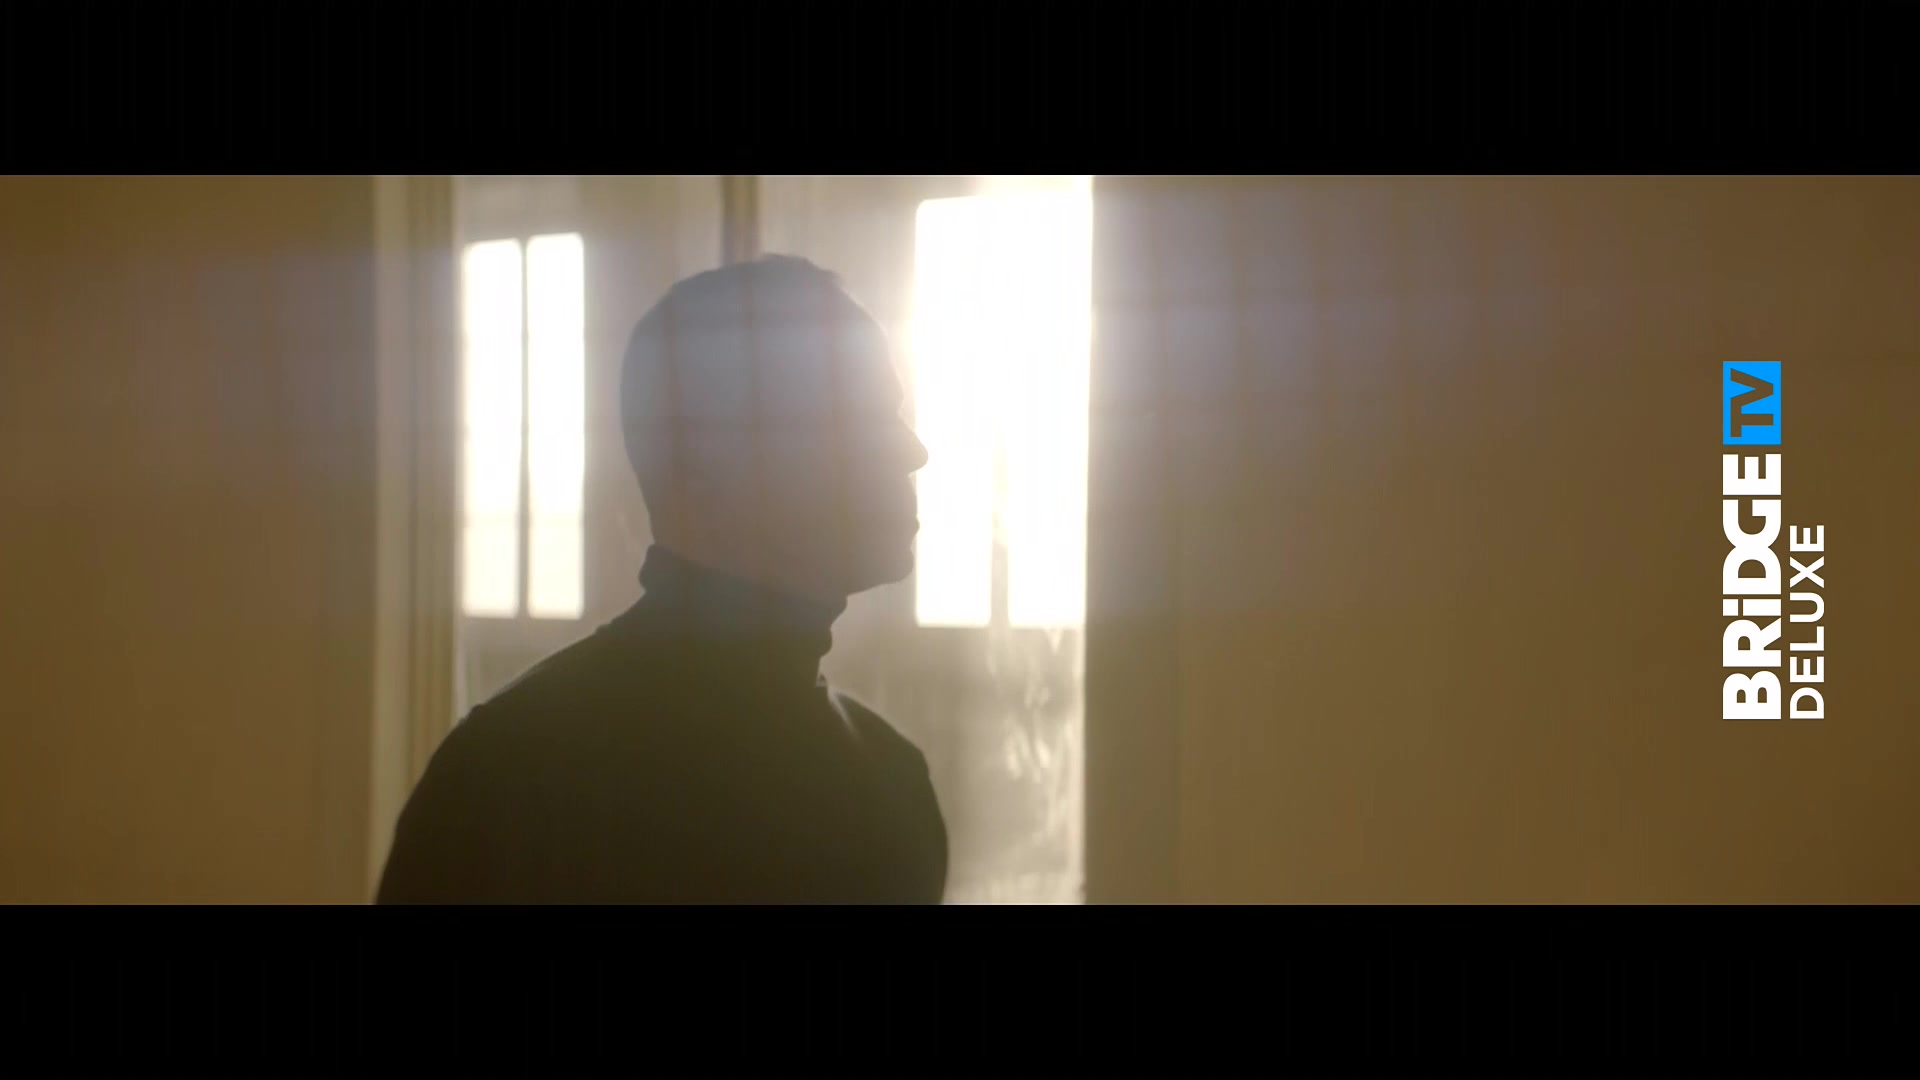Bridge_TV_Deluxe: (1714, 353, 1833, 728)
